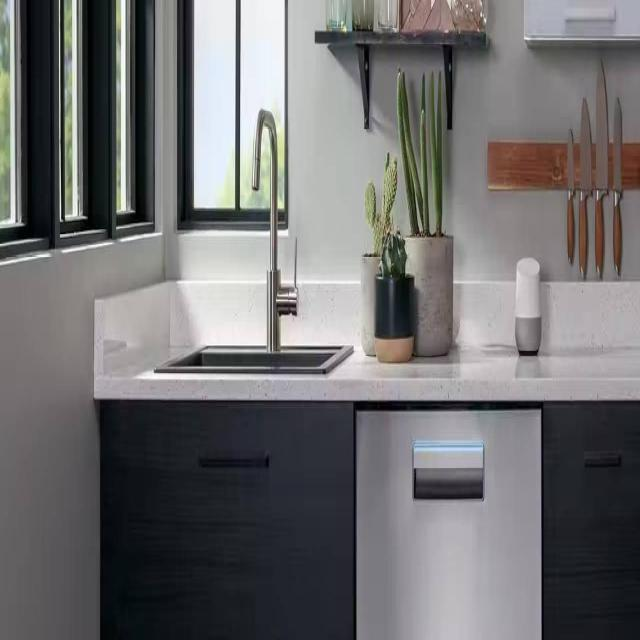dishwasher: (351, 401, 545, 640)
